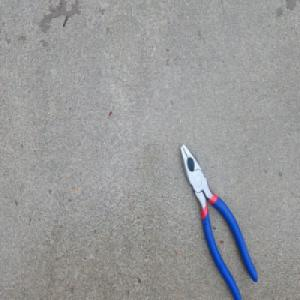Pliers: (178, 140, 258, 300)
